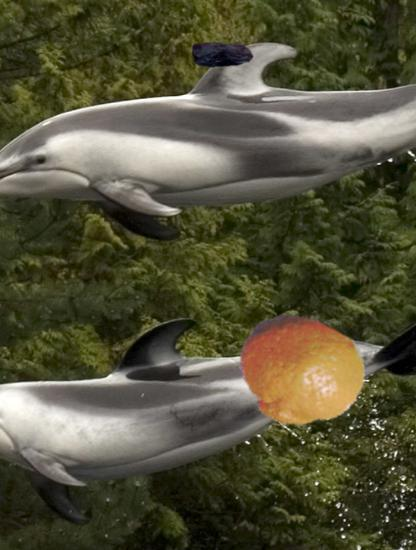Dates: (192, 24, 254, 86)
Mandarine: (235, 307, 365, 437)
